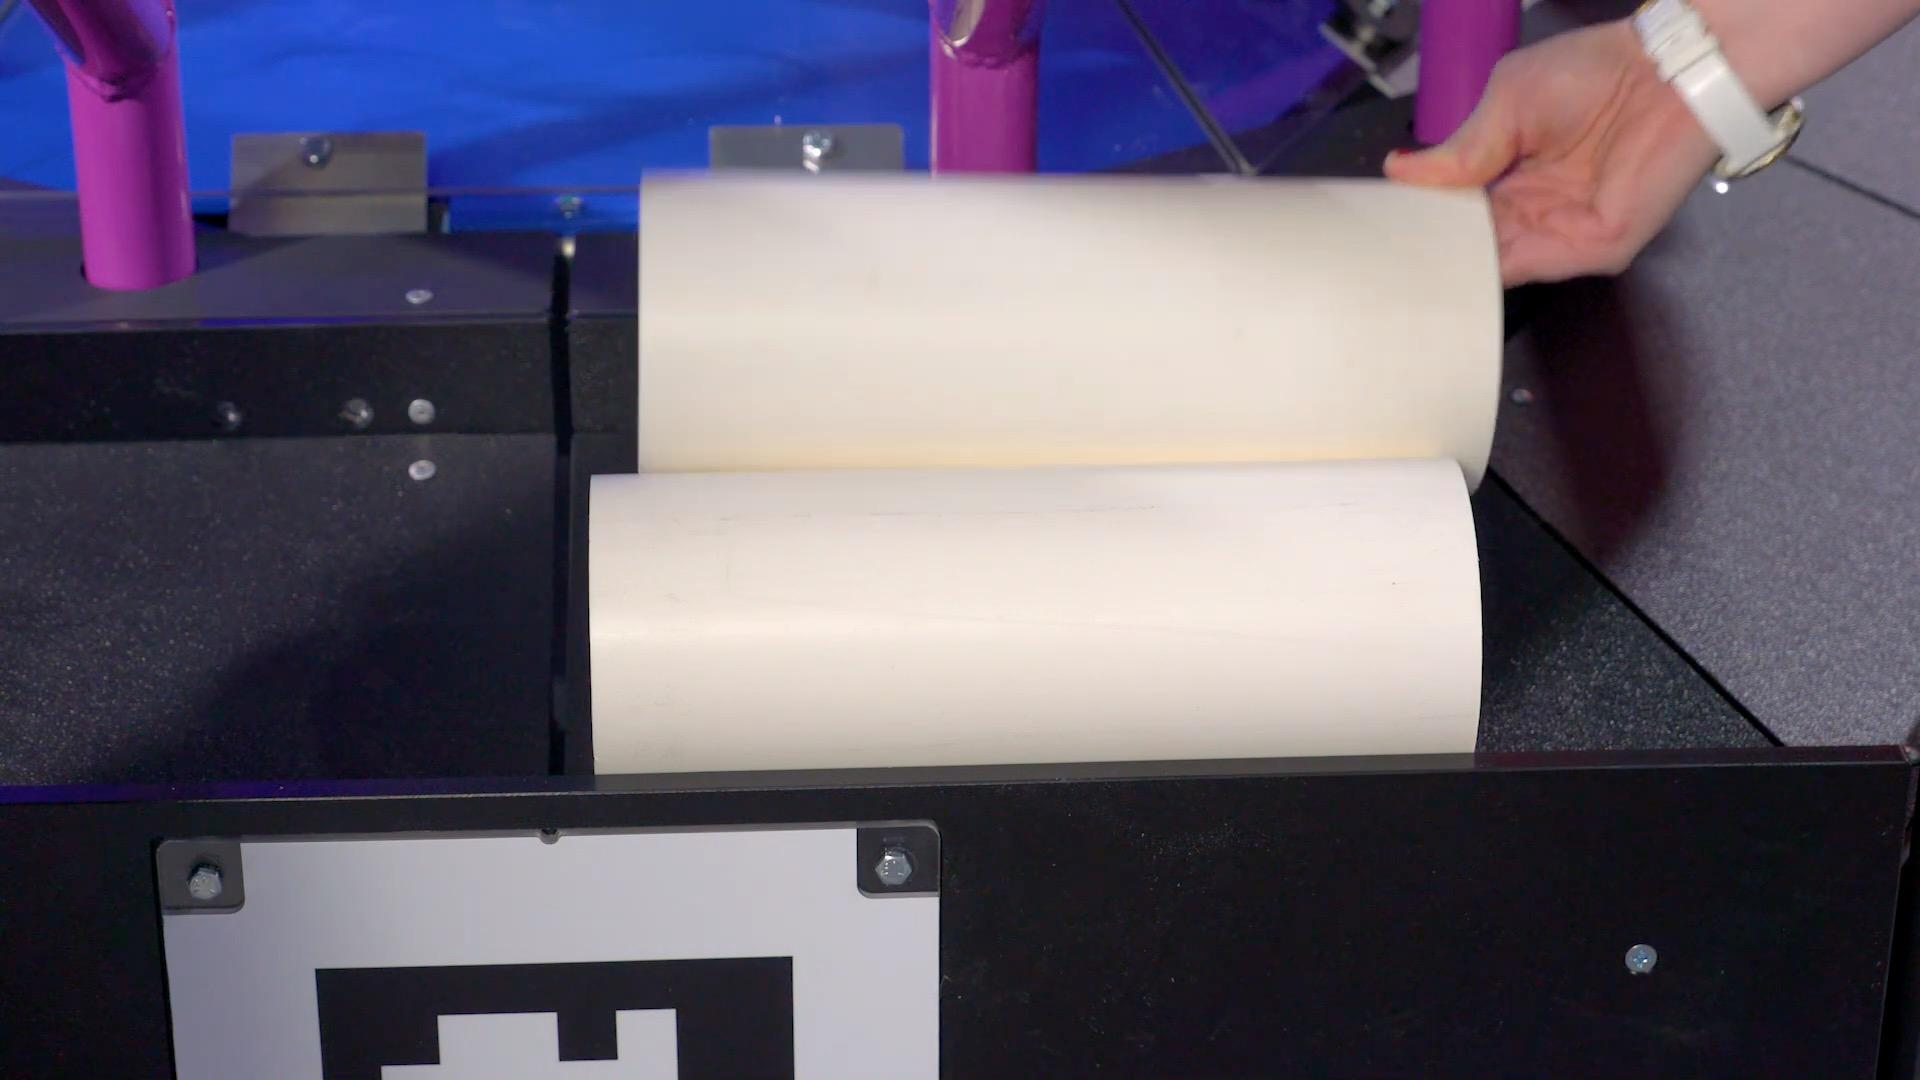CORAL: (585, 458, 1485, 775), (634, 164, 1506, 485)
